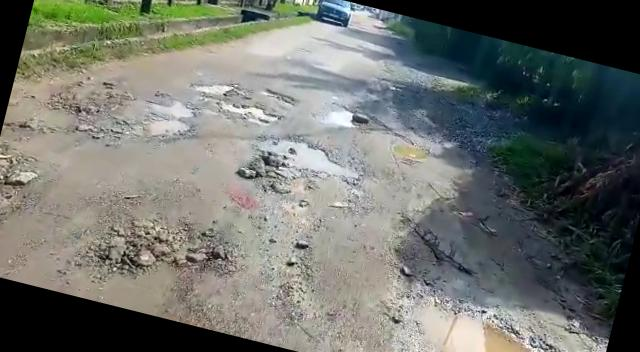pothole: (382, 291, 608, 352), (262, 132, 367, 180), (209, 94, 284, 128), (144, 111, 197, 149), (140, 90, 198, 120), (188, 74, 240, 103), (390, 138, 433, 166), (322, 102, 362, 128), (258, 85, 302, 107)
